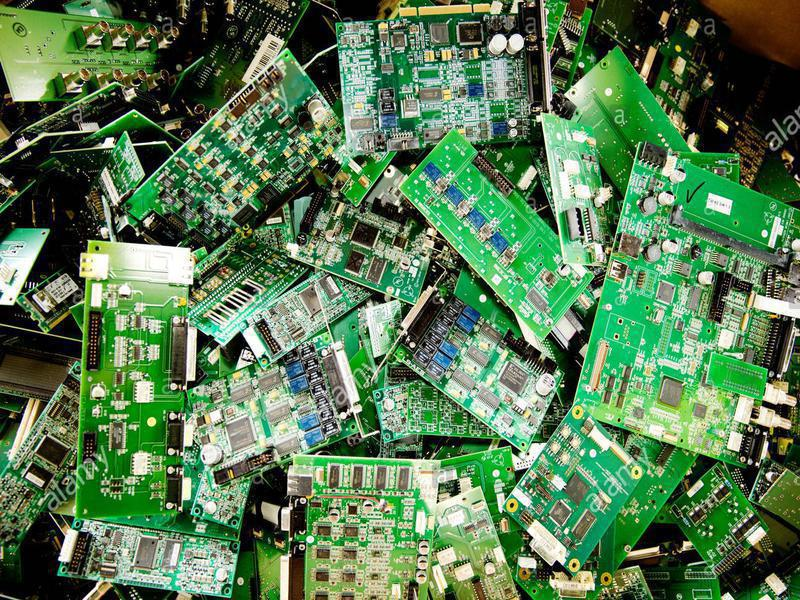circuit_board: (569, 133, 800, 474), (107, 46, 343, 251), (391, 122, 593, 352), (64, 233, 196, 543), (319, 10, 567, 155), (387, 285, 567, 460), (185, 345, 376, 490), (494, 404, 650, 575), (276, 455, 457, 599), (1, 5, 197, 108), (280, 194, 441, 309), (529, 113, 623, 273), (665, 459, 773, 579), (192, 249, 315, 345)
